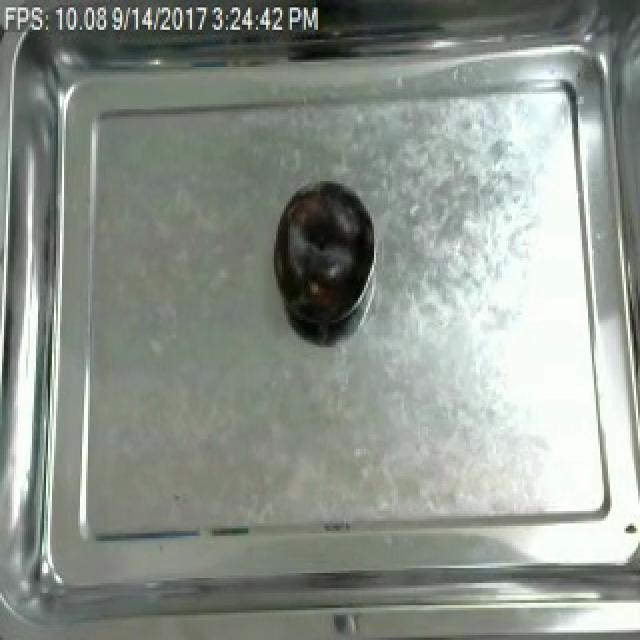Fruit: (270, 176, 372, 330)
